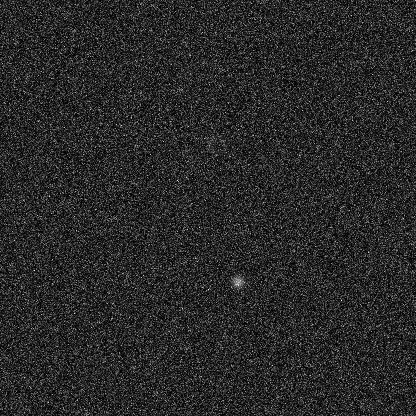Ring: (205, 132, 229, 156)
Spot: (229, 273, 245, 289)
